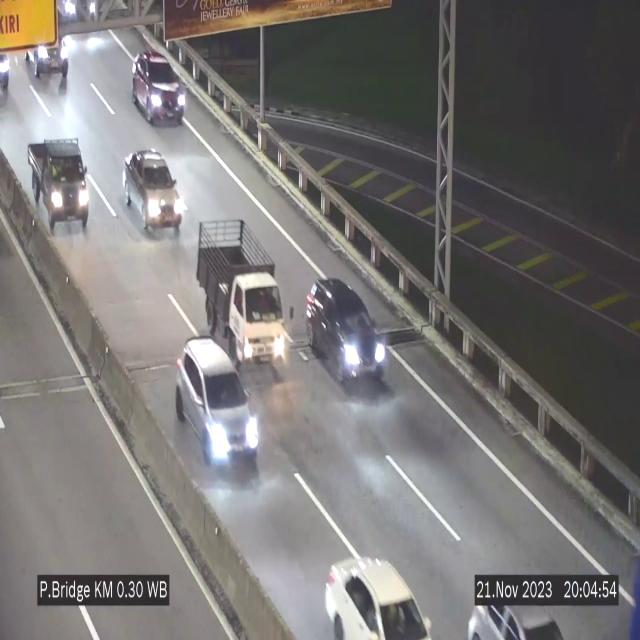Car: (315, 539, 439, 640), (176, 339, 259, 469), (307, 274, 389, 390), (120, 138, 182, 239), (468, 601, 570, 640), (132, 50, 185, 124), (20, 20, 75, 89), (0, 38, 16, 94)
Truck: (198, 245, 284, 364), (24, 129, 94, 234)
